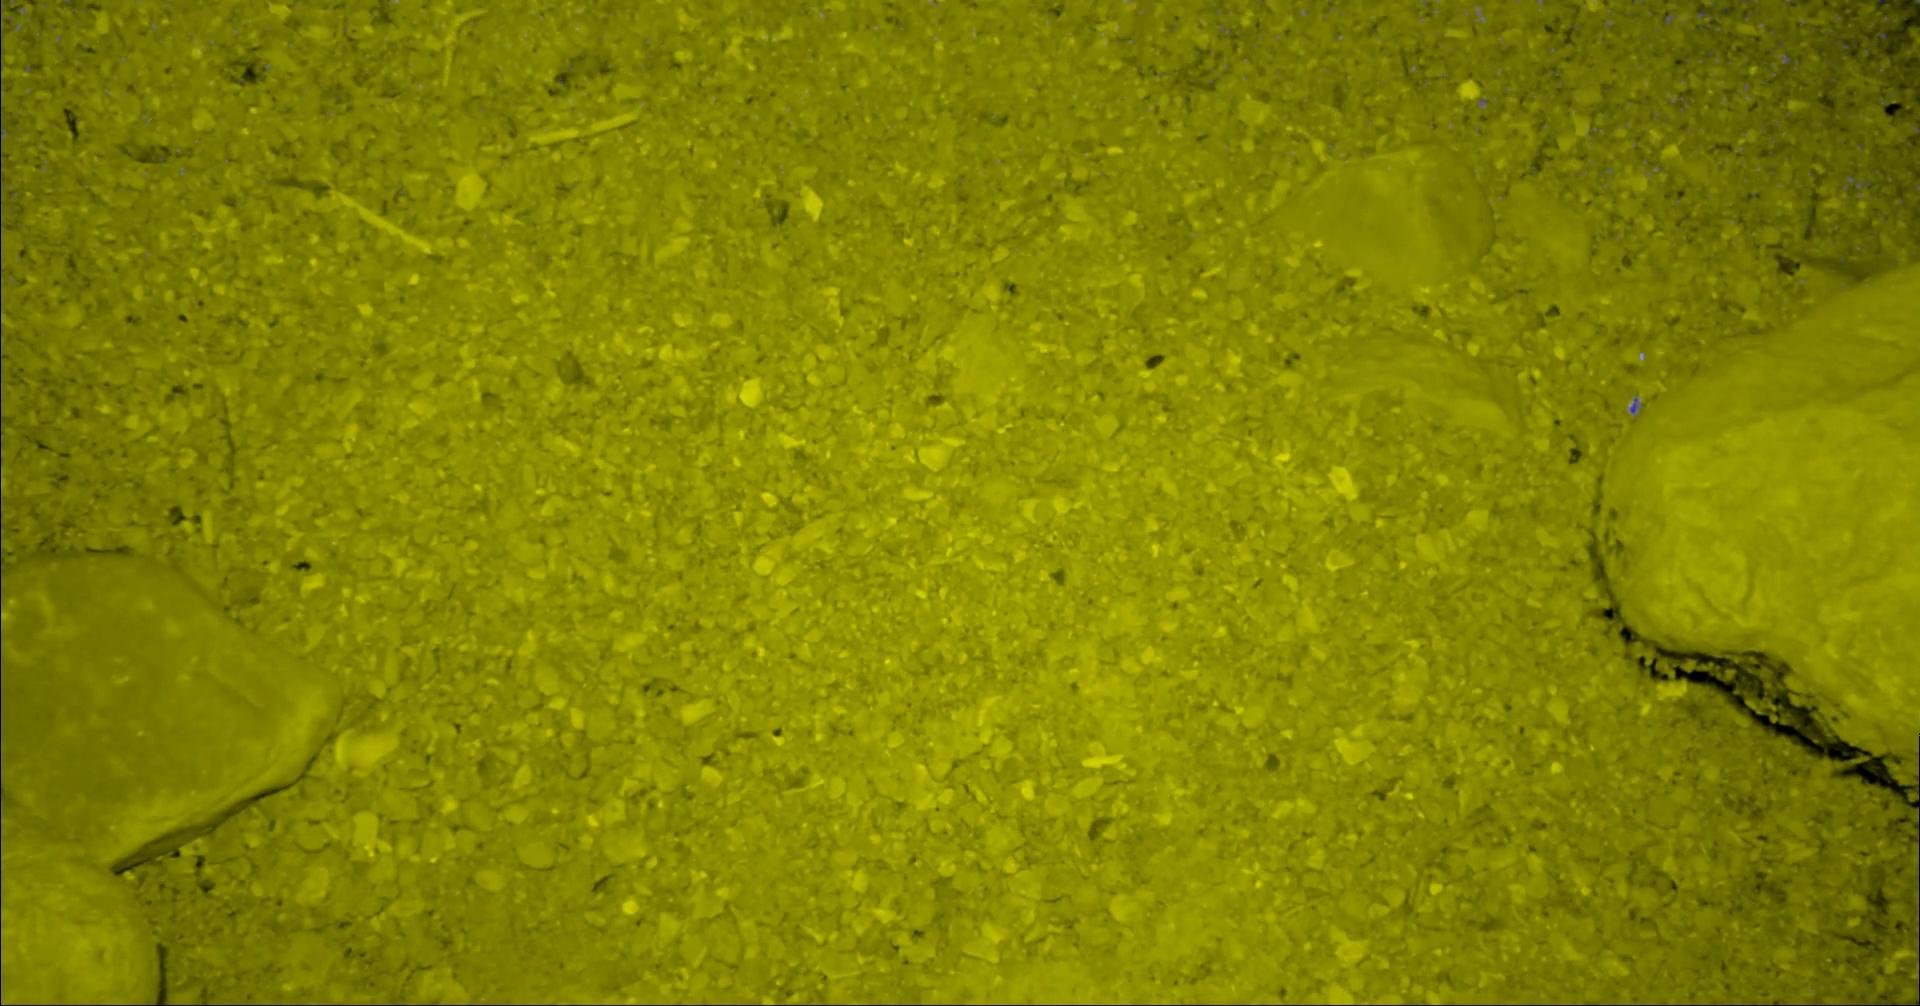ant: (0, 103, 6, 213)
